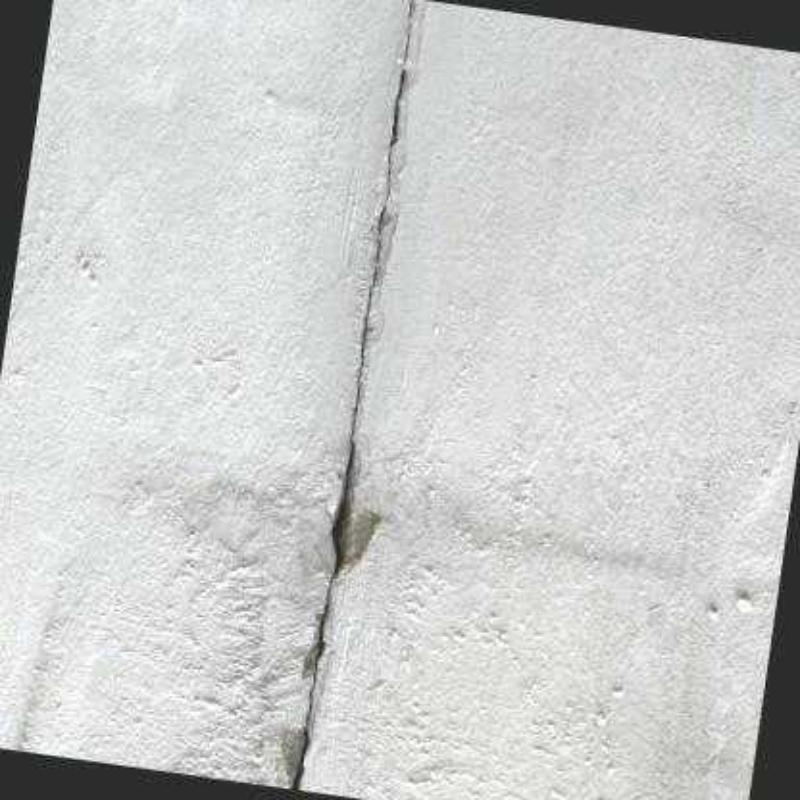pothole: (288, 0, 412, 790)
